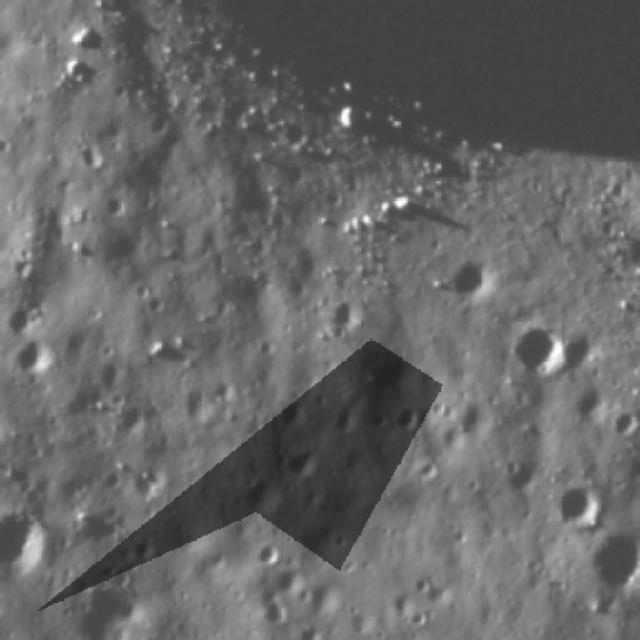crater: (73, 575, 156, 640), (501, 314, 570, 388), (583, 525, 640, 598), (0, 506, 46, 591), (429, 252, 497, 300), (550, 479, 604, 532), (319, 290, 364, 342), (559, 323, 603, 375), (6, 339, 52, 388), (568, 380, 608, 426), (238, 479, 282, 516), (282, 444, 320, 482), (3, 296, 39, 335), (251, 535, 289, 570), (607, 407, 640, 443), (392, 402, 425, 436), (255, 596, 292, 626)
